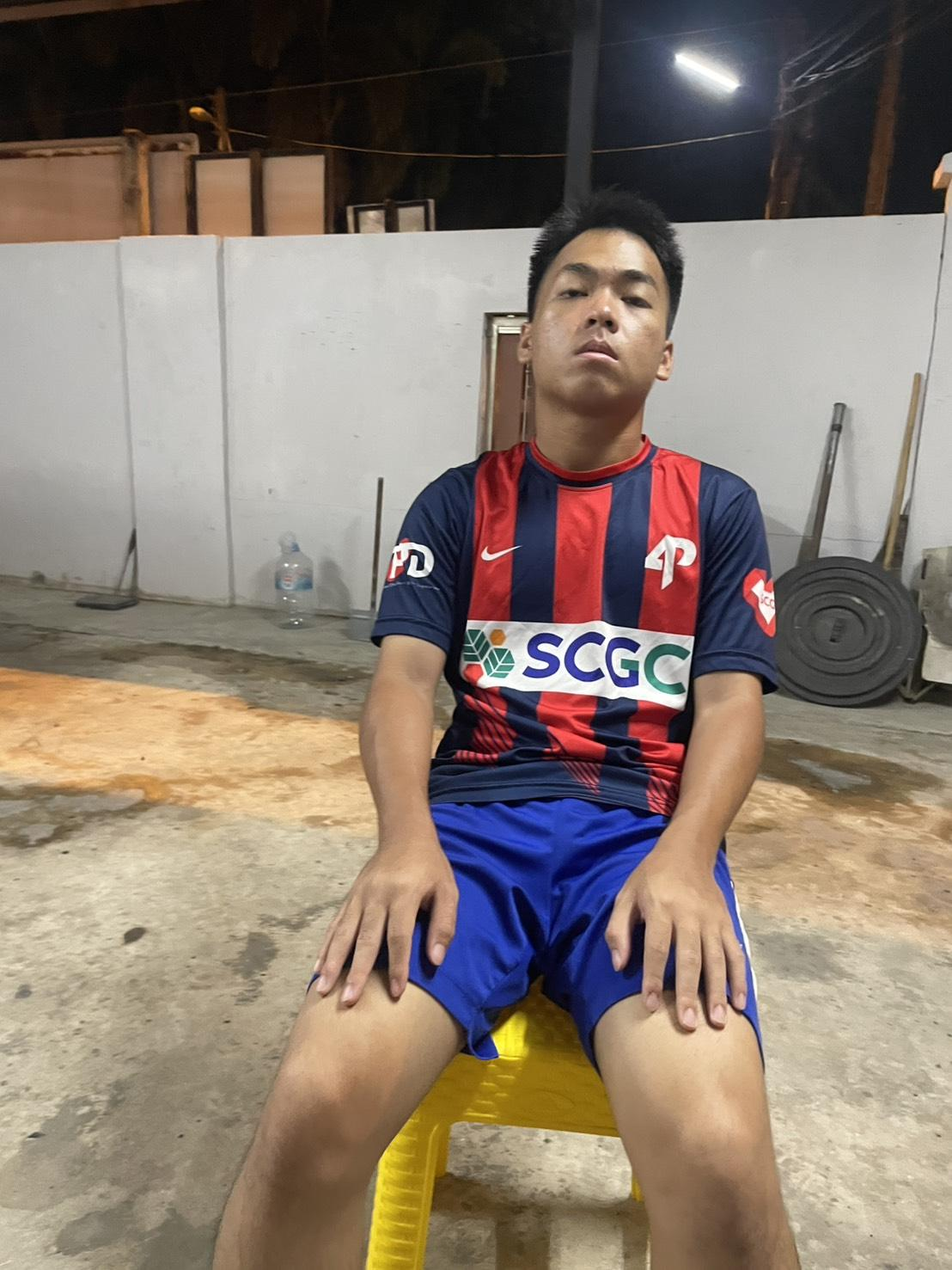BadPosture: (375, 191, 775, 821)
